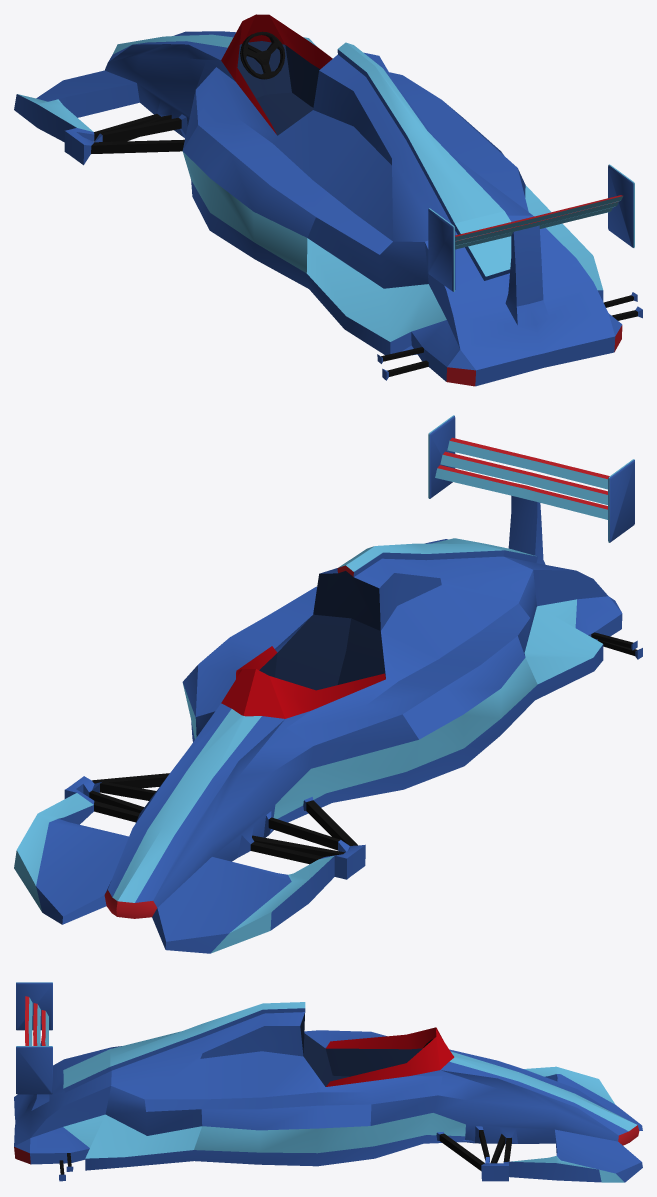
Rendered from Kart.fbx.
3 renders of one model, top to bottom at view 1: azimuth 30°, elevation 25°; view 2: azimuth 150°, elevation 25°; view 3: azimuth 270°, elevation 25°, orthographic. The views are drawn at different scales.
Parts seen in each view (by area): view 1: Kart; view 2: Kart; view 3: Kart.
Part boxes in pixels (x1,y1,x2,y2): Kart: [14, 14, 642, 386]; Kart: [14, 415, 642, 953]; Kart: [14, 982, 642, 1182].
Bounding box in the file's own units: 421 × 296 × 1116.
